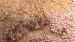plaque psoriasis: (3, 0, 75, 42), (0, 34, 64, 42)
